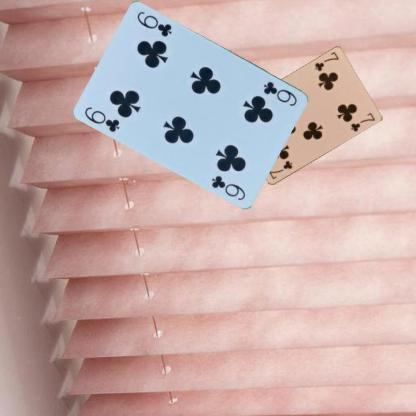6c: (261, 78, 299, 108), (82, 104, 121, 133)
7c: (312, 49, 340, 73), (266, 158, 294, 180)
